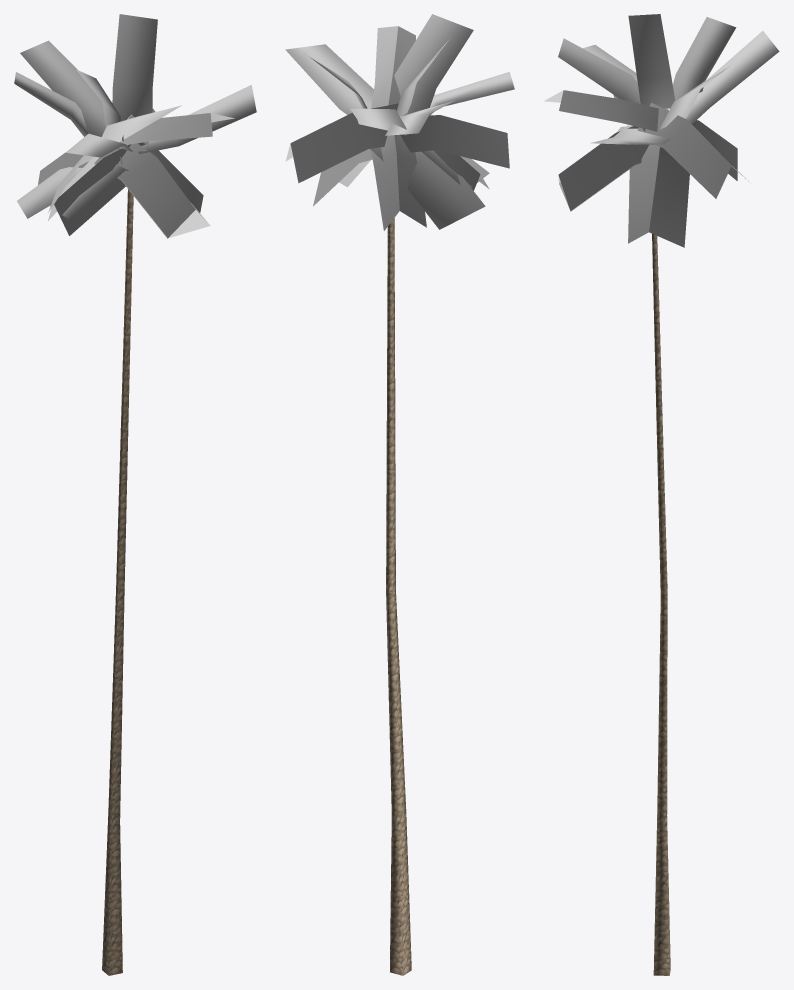
File: palm4_V2.FBX
The picture shows the model from 3 angles, left to right: view 1: azimuth 30°, elevation 25°; view 2: azimuth 150°, elevation 25°; view 3: azimuth 270°, elevation 25°; orthographic projection. The views are drawn at different scales.
Visible parts, largest first — view 1: palm4_V2__10__2; view 2: palm4_V2__10__2; view 3: palm4_V2__10__2.
Part boxes in pixels (bbox=[...]): palm4_V2__10__2: bbox=[14, 14, 256, 975]; palm4_V2__10__2: bbox=[285, 14, 514, 975]; palm4_V2__10__2: bbox=[544, 14, 779, 975].
Bounding box in the file's own units: 67.29 × 277 × 62.93.
